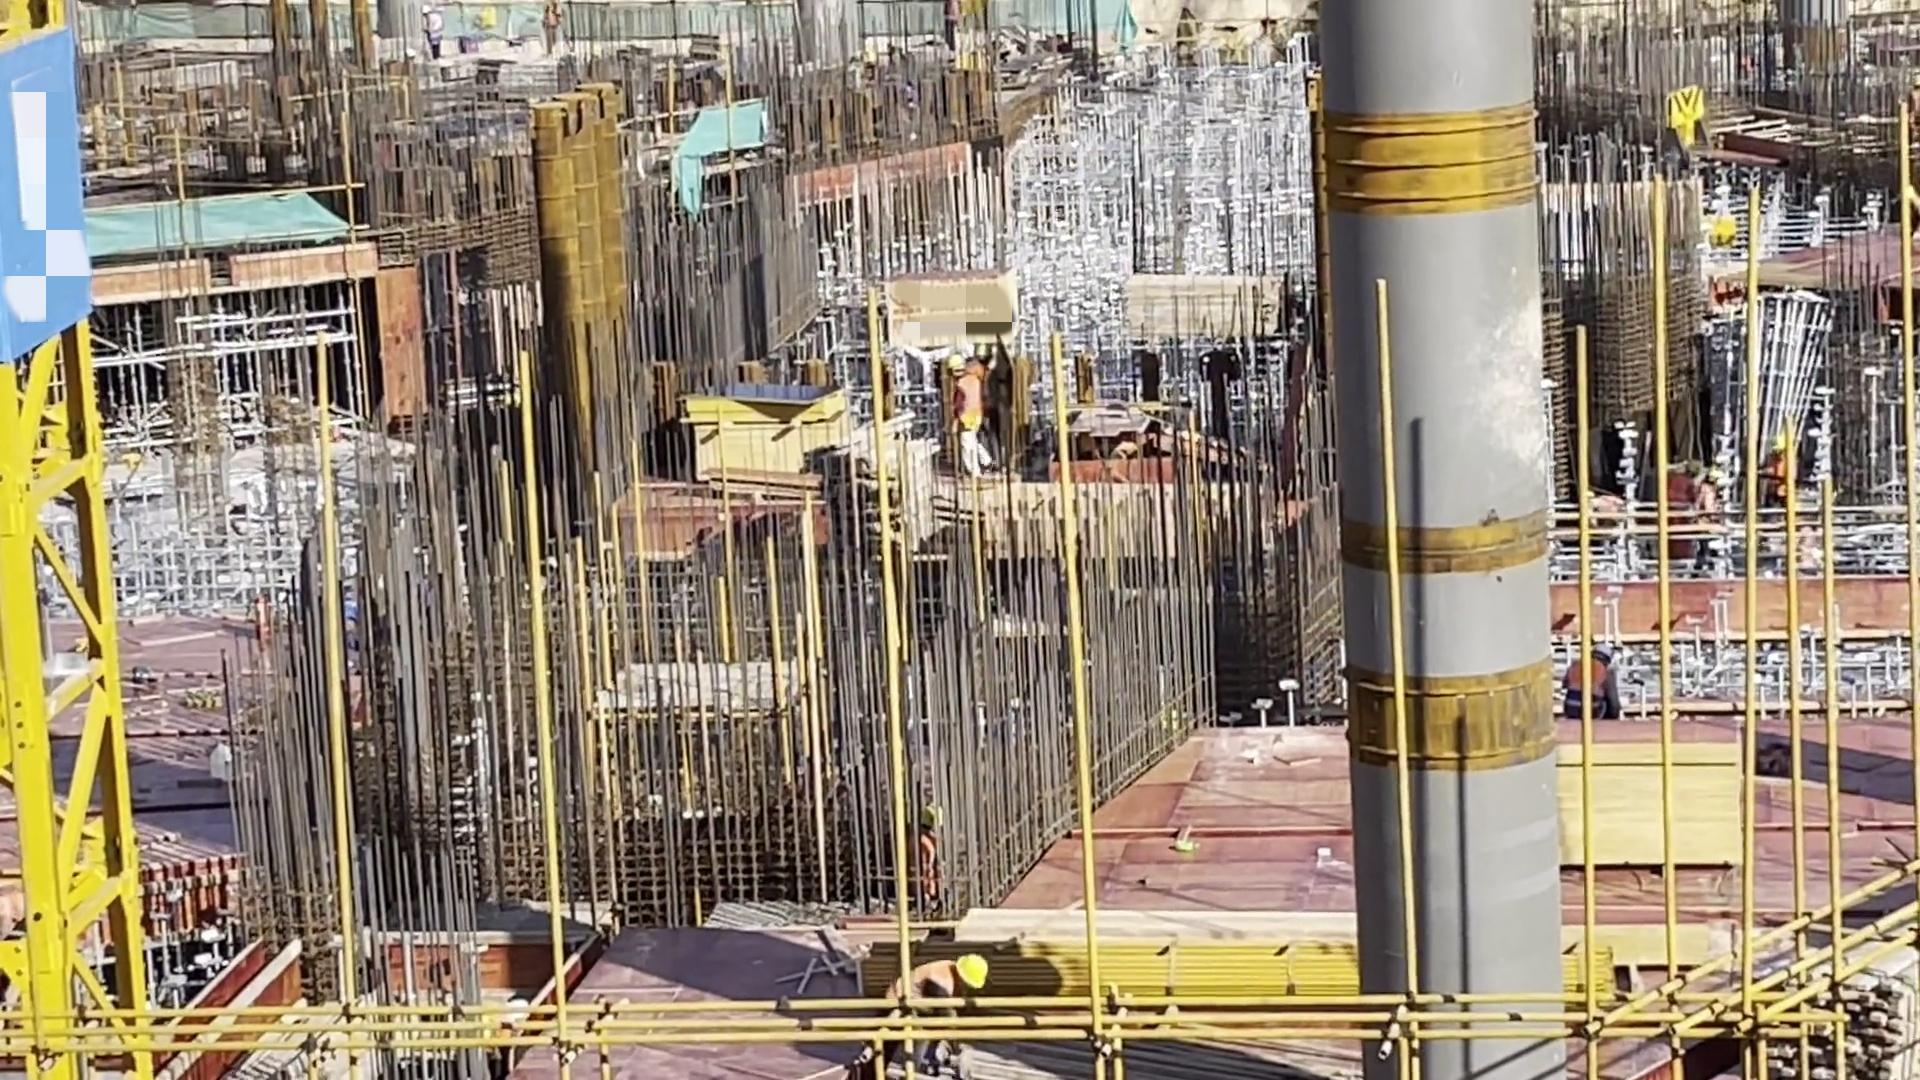board: (1541, 709, 1784, 869), (864, 269, 1044, 351), (1121, 272, 1269, 342)
helmet: (960, 952, 986, 987), (1772, 433, 1797, 458), (1583, 644, 1616, 662), (1685, 455, 1707, 477), (919, 805, 942, 823), (1712, 465, 1726, 485), (962, 343, 978, 360), (949, 356, 963, 371), (419, 3, 433, 15)
hook: (1656, 81, 1708, 197)
person: (879, 951, 1004, 1063), (1560, 650, 1622, 725), (954, 354, 987, 475), (1703, 464, 1725, 582), (1669, 459, 1696, 549), (1771, 433, 1795, 526), (417, 3, 447, 59), (1584, 491, 1624, 528), (539, 1, 562, 56), (939, 1, 960, 49), (1913, 68, 1919, 130)
vest: (864, 952, 959, 1029), (958, 374, 996, 436), (1564, 656, 1616, 694), (919, 836, 949, 896), (1693, 489, 1721, 538), (1671, 476, 1698, 520), (1593, 491, 1621, 519), (538, 5, 568, 32), (1769, 459, 1788, 488), (941, 1, 961, 25), (426, 15, 446, 38)
wood: (841, 431, 936, 544)
